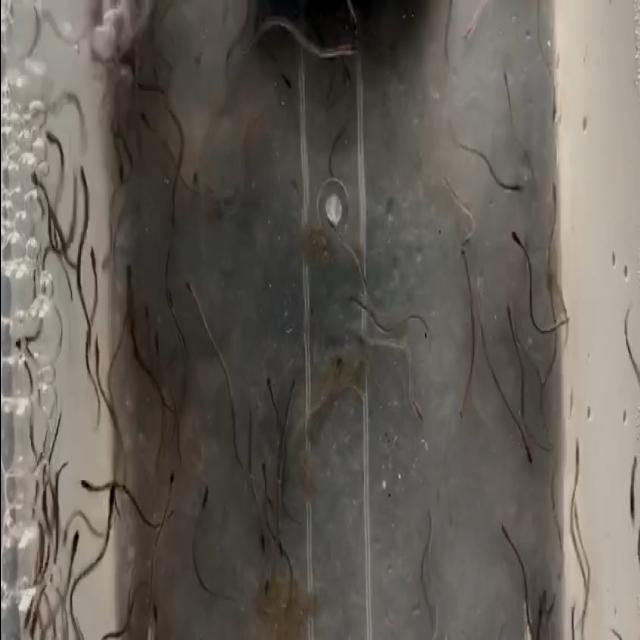active_glass_eel: (406, 386, 424, 424), (498, 64, 515, 104), (626, 483, 640, 530), (548, 88, 564, 125), (120, 261, 132, 308), (260, 558, 274, 598), (516, 438, 534, 469), (334, 38, 357, 61), (14, 327, 37, 350), (570, 433, 582, 477), (106, 479, 119, 519), (499, 515, 514, 549), (59, 515, 74, 549), (535, 585, 549, 621), (88, 245, 100, 287), (276, 524, 288, 564), (258, 450, 272, 484), (94, 334, 105, 376), (325, 215, 342, 242), (139, 302, 153, 334), (150, 596, 160, 640), (548, 180, 560, 216), (76, 476, 94, 500), (164, 470, 178, 500), (68, 530, 78, 570), (76, 162, 88, 195), (508, 229, 522, 257), (186, 274, 200, 302), (256, 524, 268, 556), (134, 111, 152, 132), (504, 185, 524, 202), (265, 371, 274, 405), (199, 482, 209, 512), (151, 326, 160, 358), (348, 292, 366, 306), (458, 234, 476, 246), (461, 32, 476, 44)
